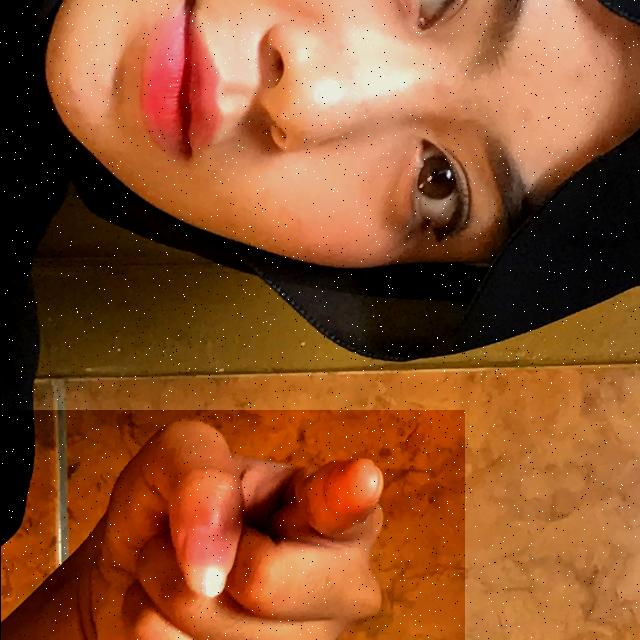kamu: (0, 410, 464, 640)
